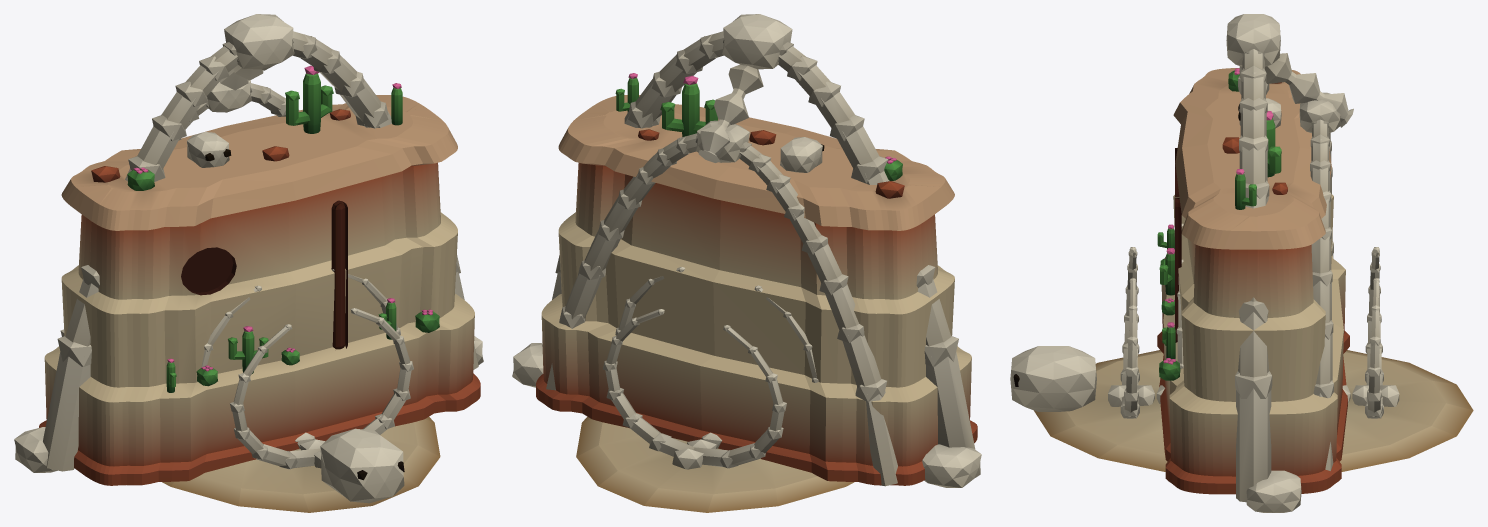
The model's file is canyon-s6-_pXtILyw.glb.
3 views of the same model, side by side, from view 1: azimuth 30°, elevation 25°; view 2: azimuth 150°, elevation 25°; view 3: azimuth 270°, elevation 25° (orthographic). The views are drawn at different scales.
Visible parts, largest first — view 1: sc_cliff_1, sc_ribarch, sc_ribcage; view 2: sc_cliff_1, sc_ribarch, sc_ribcage; view 3: sc_cliff_1, sc_ribcage, sc_ribarch.
Part boxes in pixels (x1,y1,x2,y2): sc_cliff_1: (39, 65, 480, 485); sc_ribarch: (14, 14, 483, 472); sc_ribcage: (162, 268, 440, 512); sc_cliff_1: (536, 73, 977, 485); sc_ribarch: (512, 14, 981, 487); sc_ribcage: (576, 267, 854, 512); sc_cliff_1: (1157, 68, 1349, 494); sc_ribcage: (1010, 223, 1473, 471); sc_ribarch: (1226, 14, 1353, 512).
Size of the model in its own units: 38.19 by 32.4 by 34.75.
